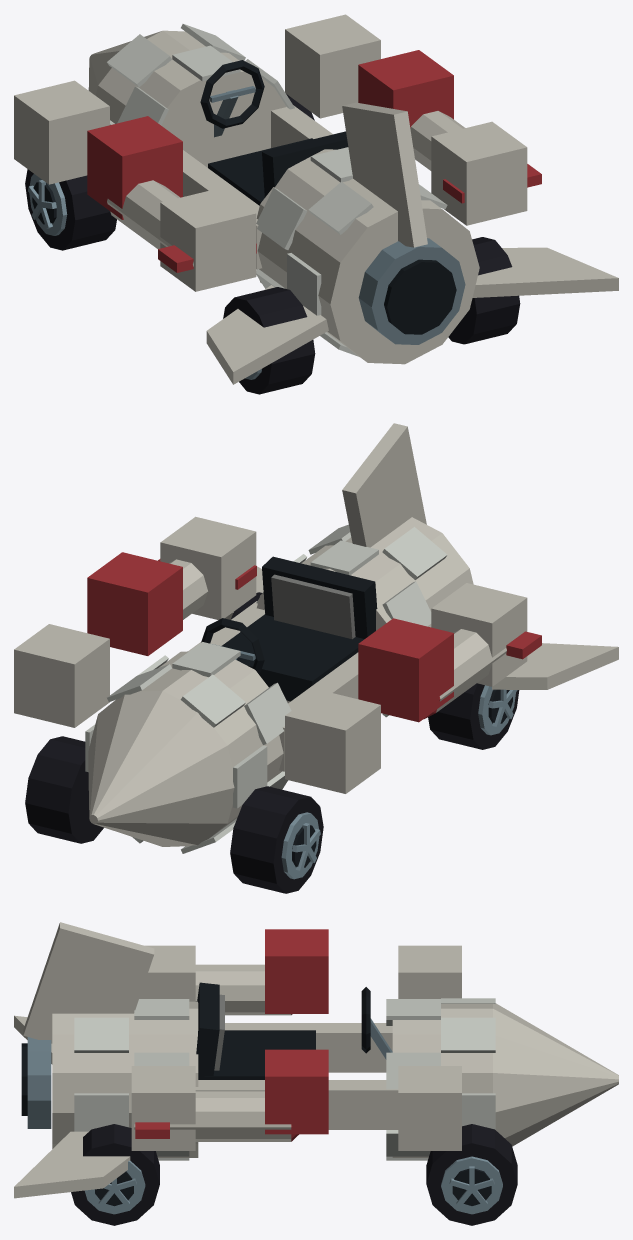
File: kart.glb
The picture shows the model from 3 angles, top to bottom: view 1: azimuth 30°, elevation 25°; view 2: azimuth 150°, elevation 25°; view 3: azimuth 270°, elevation 25°; orthographic projection. The views are drawn at different scales.
Visible parts, largest first — view 1: identity-shuttle-lunar-rocket-red-white-checkers-and-fins, identity-shuttle-motif-blocks, identity-shuttle-driver-cockpit, identity-shuttle-motif-rocket, wheel-front-left, wheel-rear-left, wheel-rear-right; view 2: identity-shuttle-lunar-rocket-red-white-checkers-and-fins, identity-shuttle-motif-blocks, identity-shuttle-driver-cockpit, wheel-front-left, wheel-front-right, identity-shuttle-motif-rocket, wheel-rear-left; view 3: identity-shuttle-lunar-rocket-red-white-checkers-and-fins, identity-shuttle-motif-blocks, identity-shuttle-motif-rocket, wheel-front-right, identity-shuttle-driver-cockpit, wheel-rear-right.
Boxes of the visible parts, x1,y1,x2,y2 form: identity-shuttle-lunar-rocket-red-white-checkers-and-fins: (88,24,618,384); identity-shuttle-motif-blocks: (14,14,527,291); identity-shuttle-driver-cockpit: (200,60,348,205); identity-shuttle-motif-rocket: (107,111,541,272); wheel-front-left: (25,169,116,250); wheel-rear-left: (223,287,315,394); wheel-rear-right: (448,237,520,344); identity-shuttle-lunar-rocket-red-white-checkers-and-fins: (85,423,618,853); identity-shuttle-motif-blocks: (14,516,527,793); identity-shuttle-driver-cockpit: (201,556,377,701); wheel-front-left: (230,786,323,893); wheel-front-right: (25,736,103,843); identity-shuttle-motif-rocket: (158,559,541,719); wheel-rear-left: (428,683,519,749); identity-shuttle-lunar-rocket-red-white-checkers-and-fins: (14,922,618,1198); identity-shuttle-motif-blocks: (131,929,461,1150); identity-shuttle-motif-rocket: (134,964,298,1141); wheel-front-right: (426,1124,517,1225); identity-shuttle-driver-cockpit: (196,982,392,1079); wheel-rear-right: (71,1124,159,1225).
Size of the model in its own units: 2.22 by 1.48 by 3.31.
